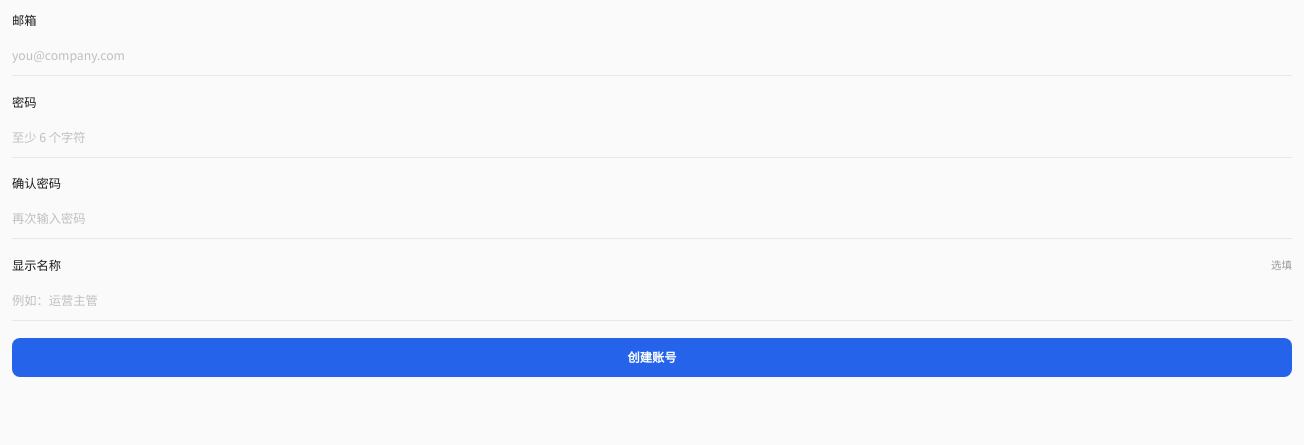
Test case: RegisterForm › renders server action errors in the feedback banner
The width and height of the screenshot is (1304, 445).
Type "user@example.com" into the field labelled "邮箱" at (652, 56), box 12,36 -> 1292,76
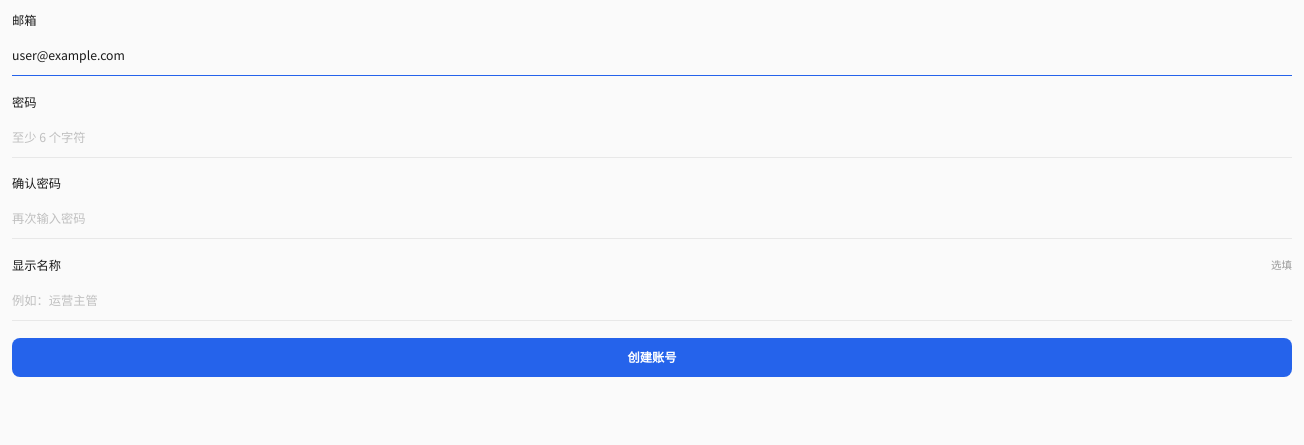
Type "password123" into the password field labelled "密码" at (652, 138), box 12,118 -> 1292,158
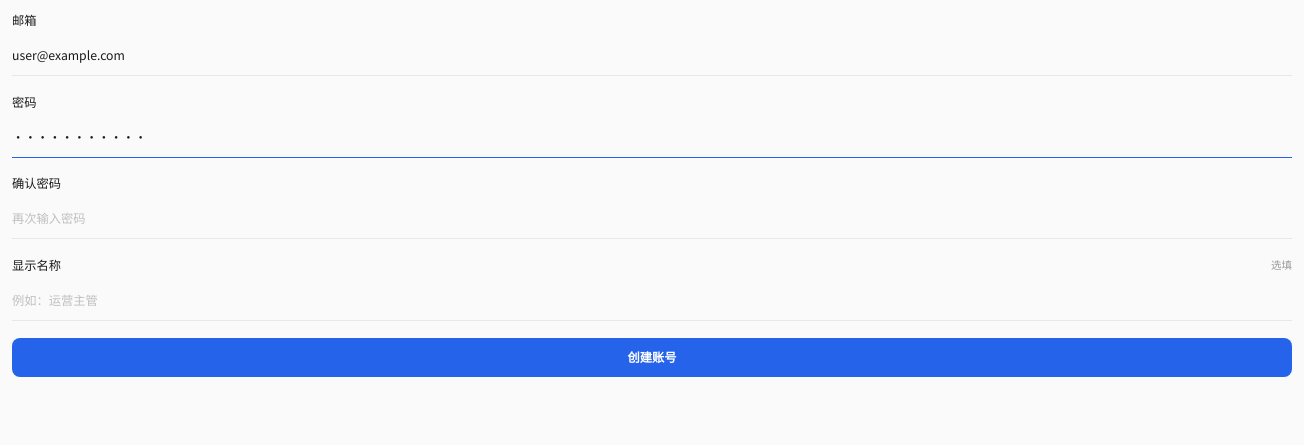
Type "different123" into the password field labelled "确认密码" at (652, 219), box 12,200 -> 1292,239
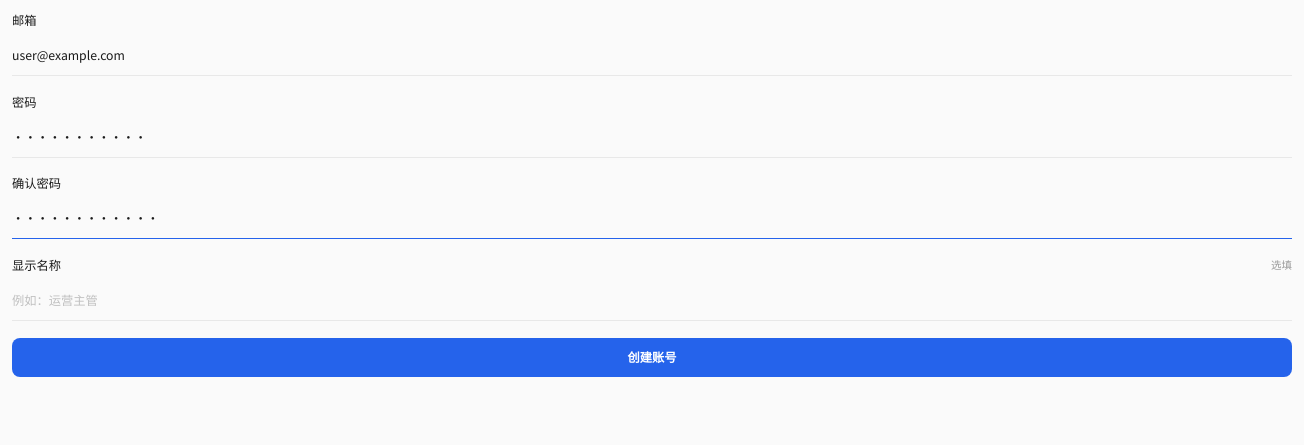
Click the button "创建账号" at (652, 357), box 12,338 -> 1292,376
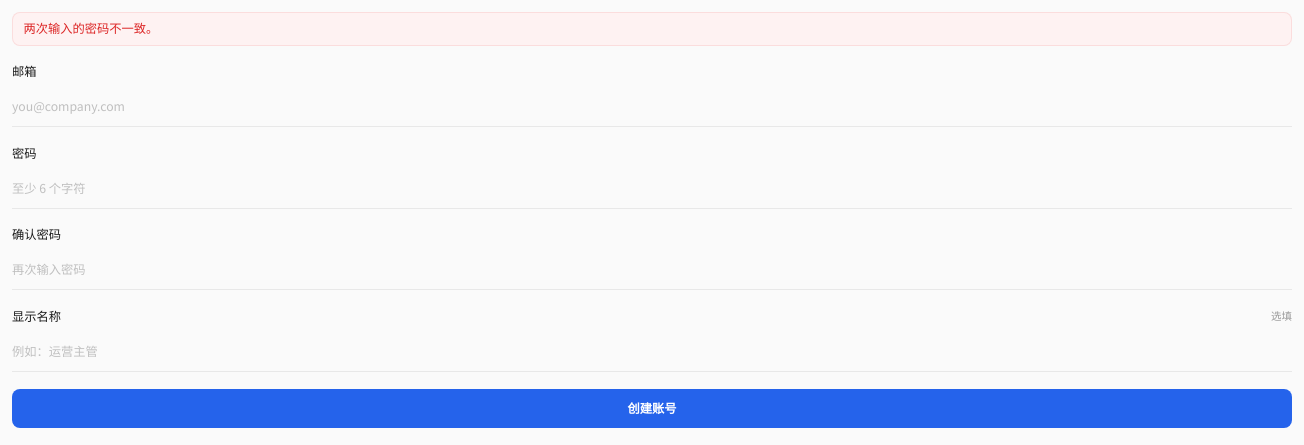
Expected: the text "两次输入的密码不一致。" is shown, 12,12 -> 1292,46
